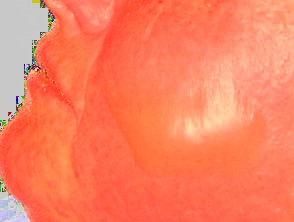SJS-TEN: (88, 72, 271, 185)
